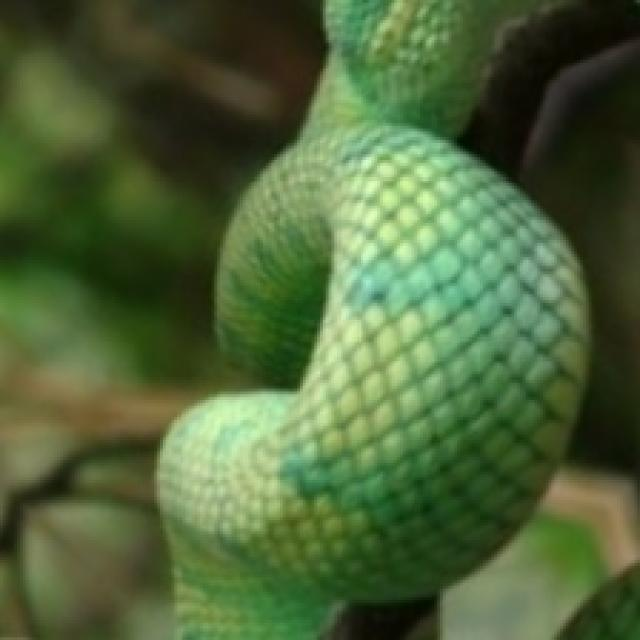north ph temple pitviper: (157, 0, 586, 637)
